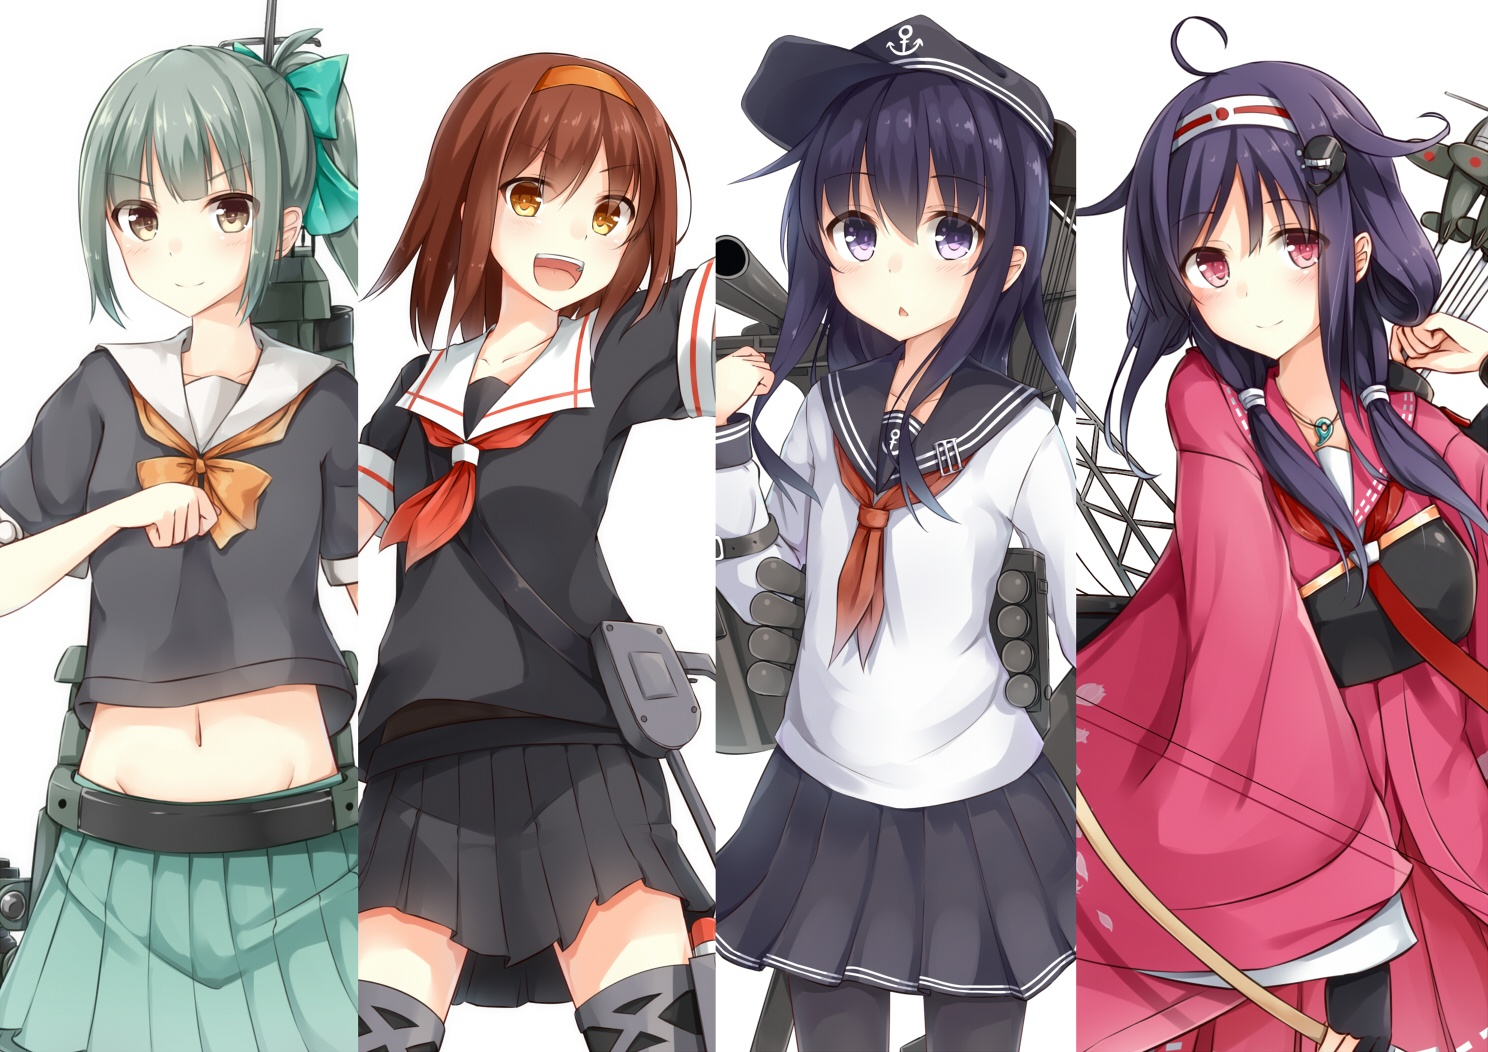纸片人正脸: (1111, 44, 1443, 376), (752, 32, 1064, 358), (67, 33, 337, 335), (412, 47, 688, 324)
